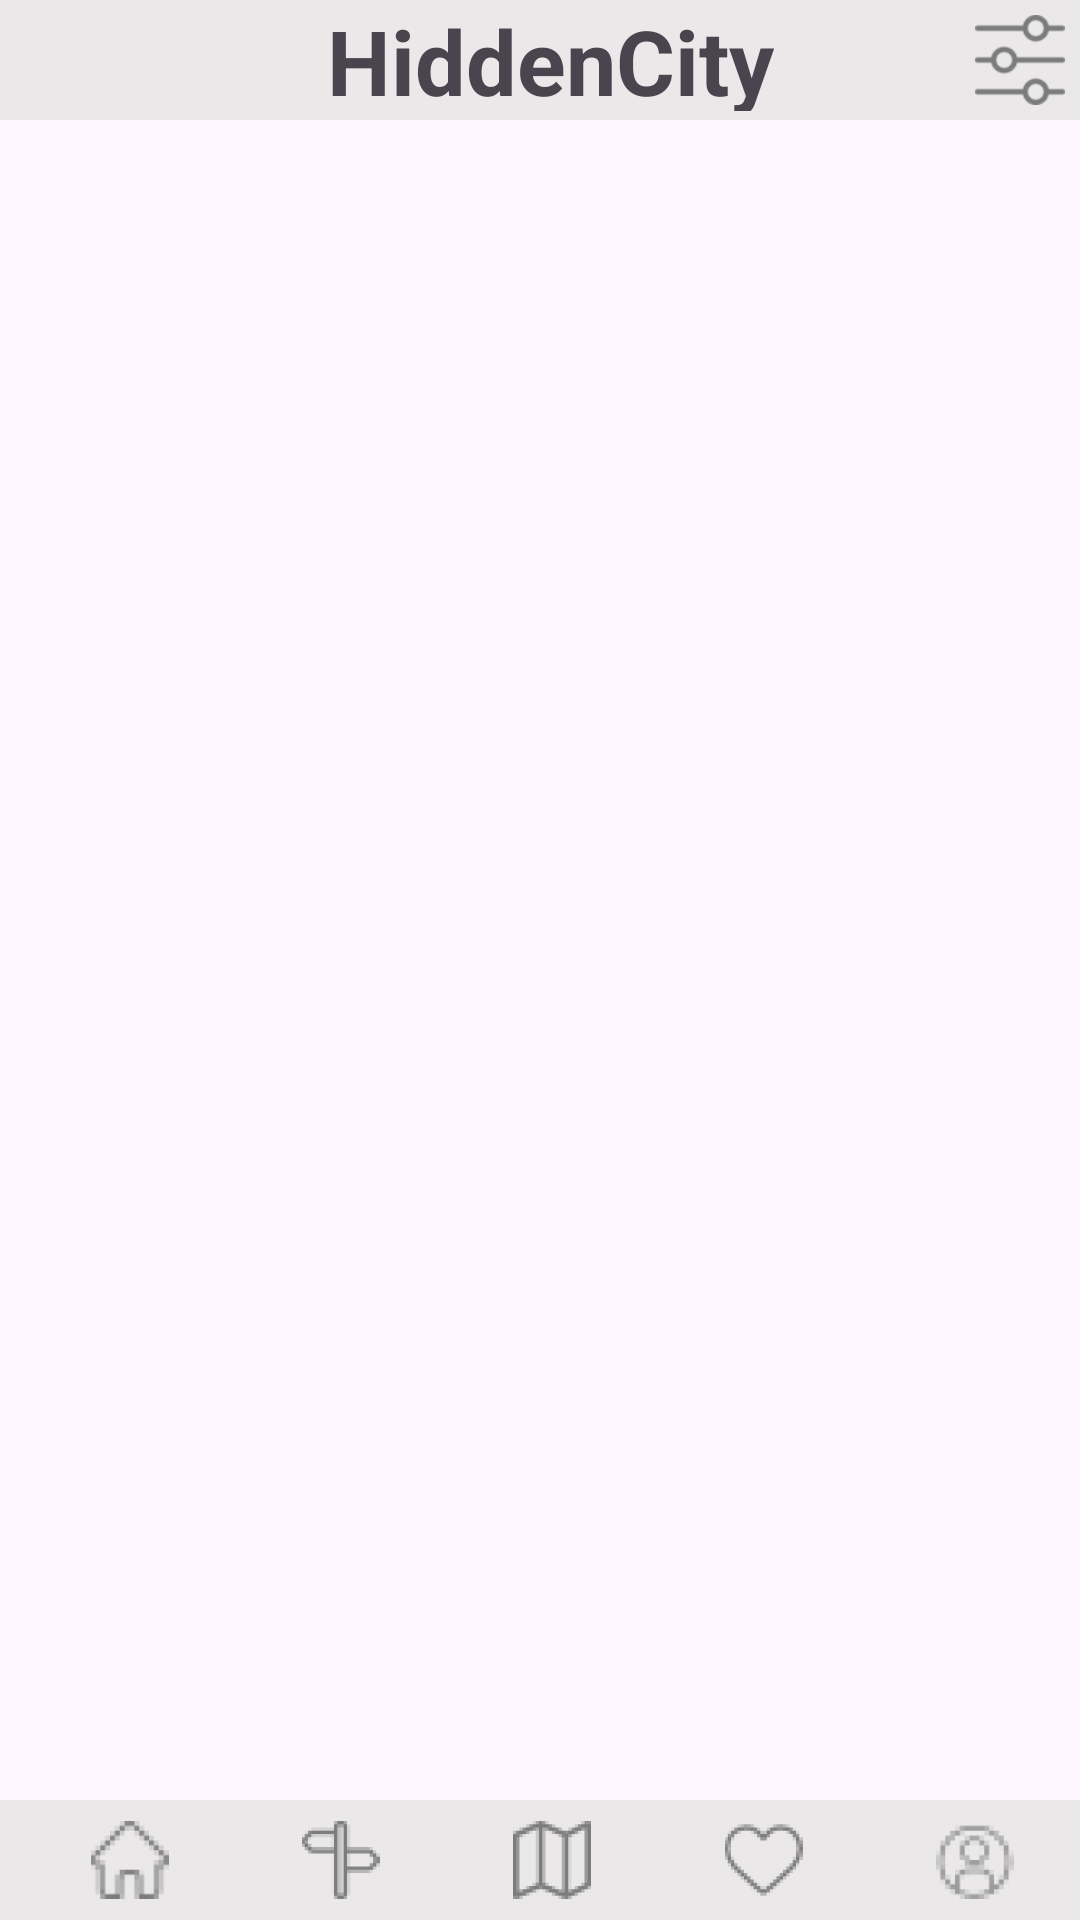

Screen size 1080w x 1920h. Icon name, then its center in pixels as [x,y]:
casa: [130,1860]
conta: [975,1862]
definicoes: [1020,60]
favoritos: [764,1860]
guia: [341,1860]
map: [552,1860]
